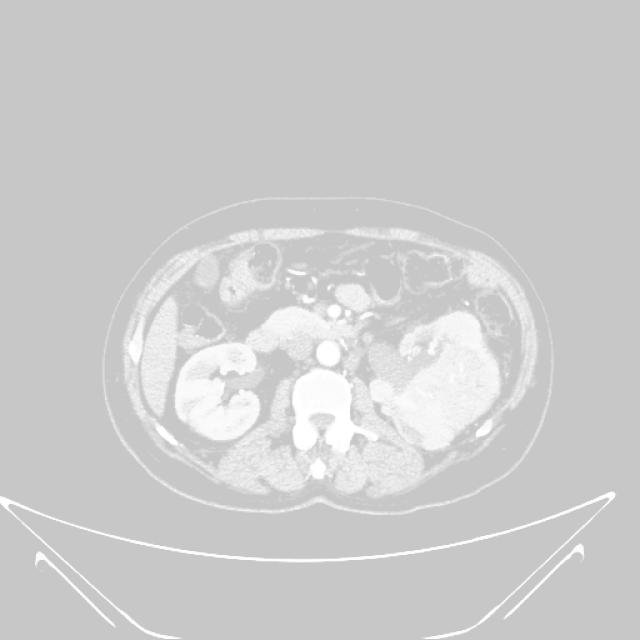TUMOR: (140, 265, 482, 440)
